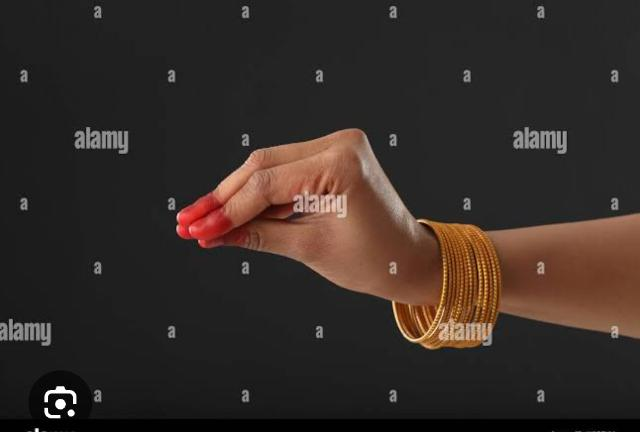mukul: (180, 129, 508, 350)
